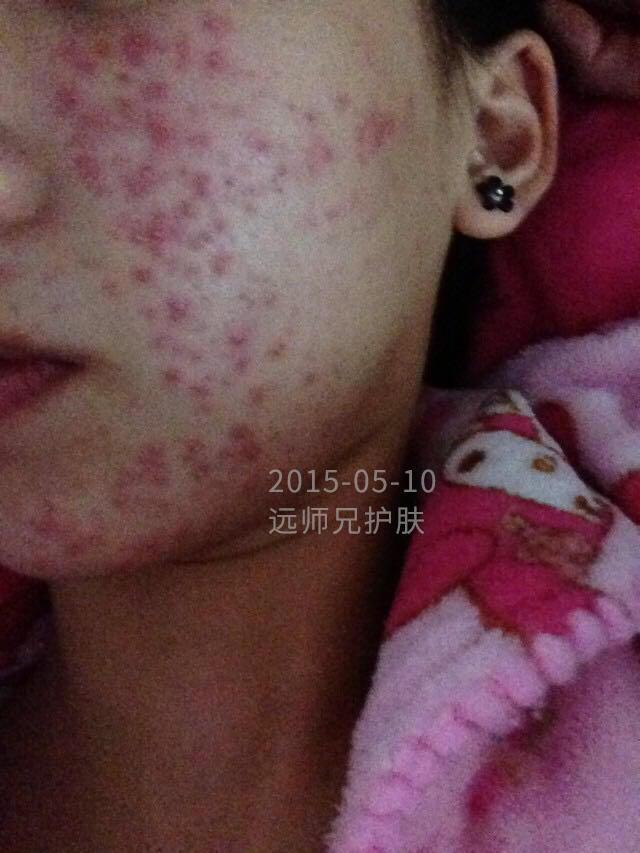fore: (131, 445, 184, 485), (133, 215, 176, 258), (293, 143, 337, 184), (206, 94, 258, 123), (203, 43, 239, 84), (74, 521, 112, 559), (123, 24, 159, 63), (220, 313, 259, 349), (239, 273, 279, 308), (222, 349, 263, 383), (231, 186, 273, 219), (70, 143, 106, 181), (180, 162, 218, 198), (171, 330, 208, 366), (180, 383, 216, 419), (248, 118, 282, 156), (191, 457, 229, 491), (159, 31, 193, 69), (110, 88, 142, 128), (172, 198, 213, 228), (186, 5, 225, 35), (138, 492, 178, 521), (61, 43, 97, 75), (301, 105, 328, 147), (87, 26, 119, 61), (208, 245, 242, 277), (326, 88, 363, 117), (118, 164, 159, 190), (127, 529, 171, 553), (318, 203, 354, 232), (92, 274, 129, 302), (174, 260, 208, 290), (237, 436, 273, 464), (36, 500, 67, 532), (266, 154, 298, 185), (176, 128, 214, 154), (92, 412, 119, 448), (138, 295, 168, 327), (293, 359, 327, 387), (105, 62, 140, 89), (371, 97, 388, 152), (103, 481, 135, 510), (135, 116, 171, 141), (235, 379, 263, 411), (266, 331, 294, 363), (163, 288, 189, 322), (50, 78, 78, 109), (142, 332, 172, 360), (190, 367, 220, 395), (84, 109, 110, 141), (210, 415, 241, 440), (142, 69, 169, 94), (178, 430, 203, 455), (199, 224, 222, 251), (214, 194, 233, 224), (159, 364, 185, 385), (131, 258, 152, 283)
